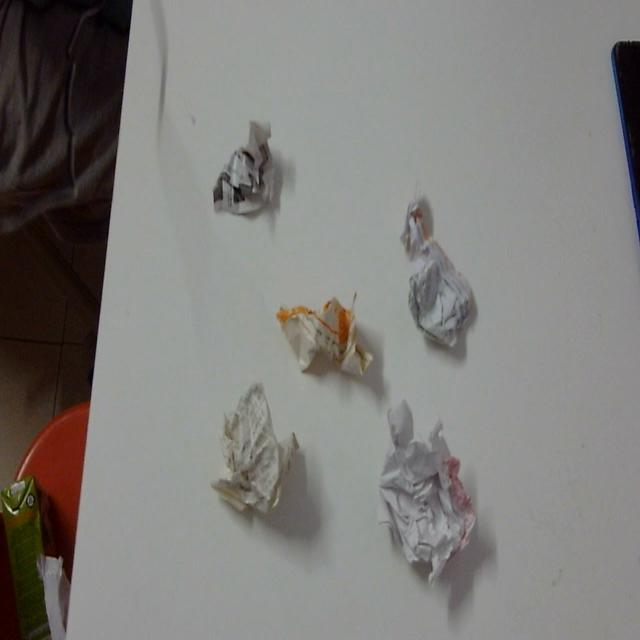paperrotation: (377, 395, 476, 592), (391, 185, 478, 360), (214, 376, 304, 530), (270, 281, 374, 386), (206, 115, 278, 223)
